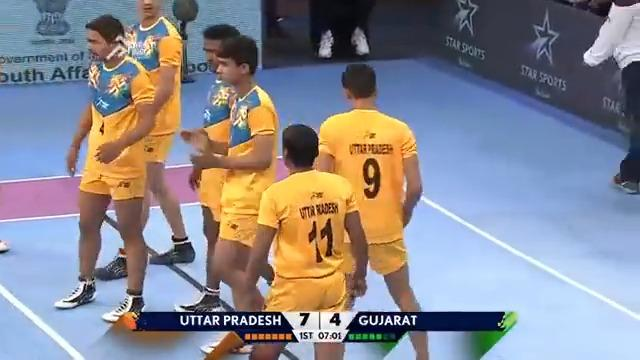Player: (315, 62, 429, 358), (180, 33, 279, 355), (54, 13, 157, 322), (243, 123, 368, 359), (93, 0, 195, 280), (581, 0, 639, 194)
referee: (171, 0, 198, 83)
